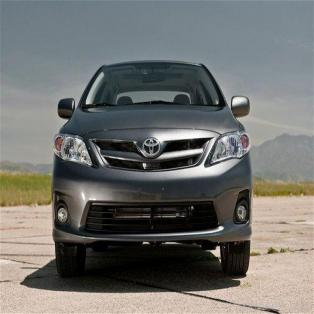Auto: (51, 58, 254, 280)
